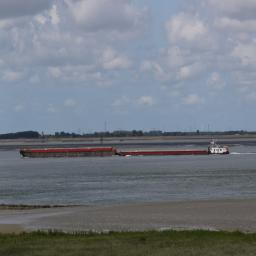tugboat: (204, 138, 234, 158)
